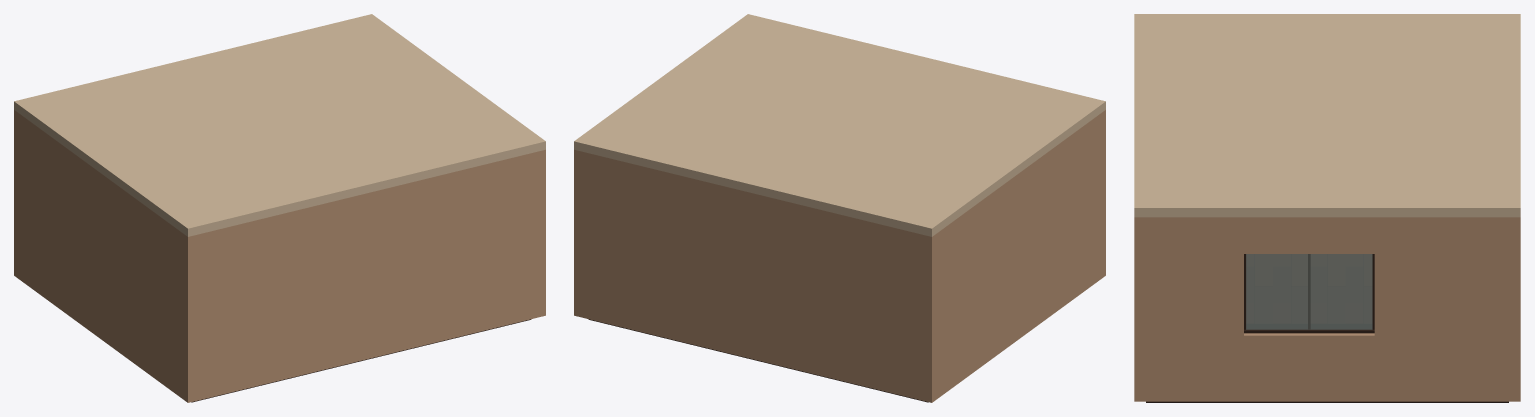
File: room.glb
3 views of the same model, side by side, from view 1: azimuth 30°, elevation 25°; view 2: azimuth 150°, elevation 25°; view 3: azimuth 270°, elevation 25° (orthographic). The views are drawn at different scales.
Visible parts, largest first — view 1: Plain warm ceiling, Wall front, Wall left, Wall back; view 2: Plain warm ceiling, Wall back, Wall left, Wall front; view 3: Plain warm ceiling, Right wall around window, Right wall around window.001, Right wall around window.003, Window glazing, Right wall around window.002, Wall back, Wall front, Window sill, Floor foundation, Walnut plank.032, Walnut plank.036 (+9 smaller).
Boxes of the visible parts, <box> form: Plain warm ceiling: <box>14,14,545,236</box>; Wall front: <box>182,149,545,402</box>; Wall left: <box>19,114,182,398</box>; Wall back: <box>14,110,19,278</box>; Plain warm ceiling: <box>574,14,1105,236</box>; Wall back: <box>574,149,937,402</box>; Wall left: <box>937,114,1100,398</box>; Wall front: <box>1100,110,1105,278</box>; Plain warm ceiling: <box>1134,14,1520,217</box>; Right wall around window: <box>1146,333,1508,401</box>; Right wall around window.001: <box>1146,217,1508,253</box>; Right wall around window.003: <box>1374,254,1508,335</box>; Window glazing: <box>1246,254,1372,329</box>; Right wall around window.002: <box>1146,254,1243,335</box>; Wall back: <box>1509,217,1520,401</box>; Wall front: <box>1134,217,1145,401</box>; Window sill: <box>1244,324,1374,333</box>; Floor foundation: <box>1146,401,1508,402</box>; Walnut plank.032: <box>1255,286,1272,322</box>; Walnut plank.036: <box>1273,266,1290,302</box>.
Size of the model in its own units: 6.32 by 3.03 by 5.32.
